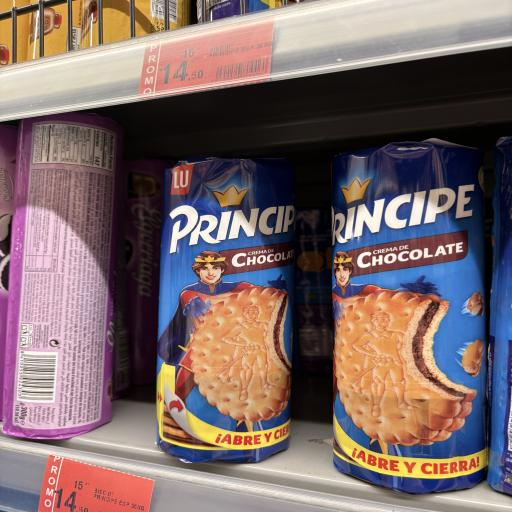prince: (82, 127, 340, 493)
